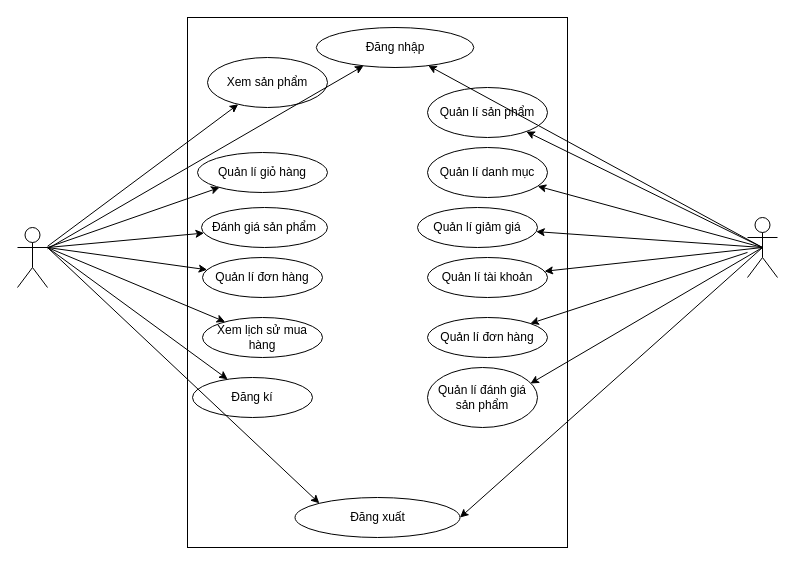
Some shapes in this 797 by 565 pixel diagram are drawn without their labels. Each missing label, with the centre of its shape:
"Admin" belongs at point 762,247.
"User" belongs at point 32,257.
